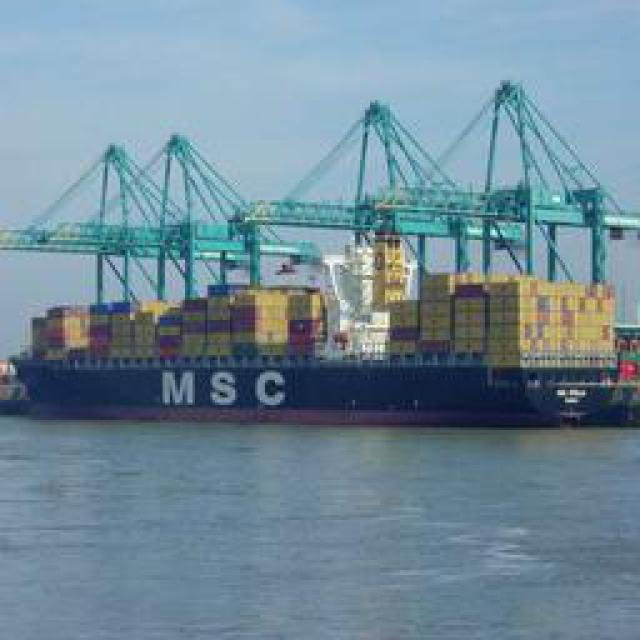Ship: (26, 88, 634, 423)
